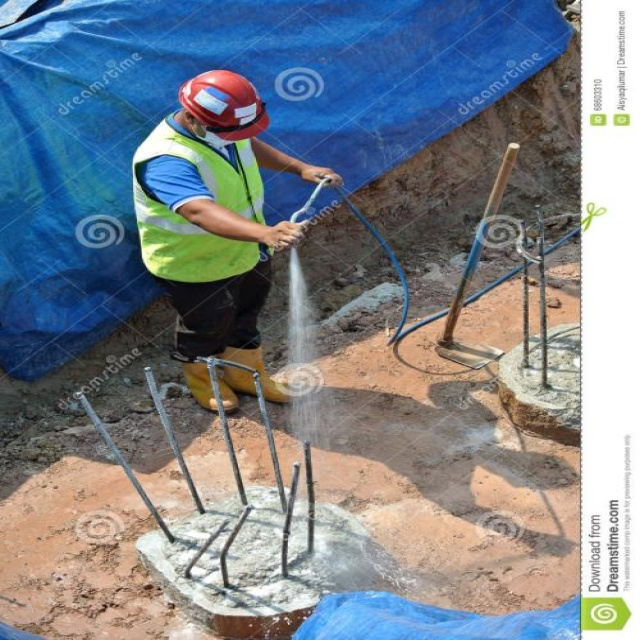Helmet: (168, 56, 277, 159)
Reflective vest: (126, 117, 271, 285)
